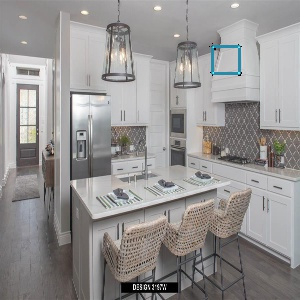square: (208, 42, 245, 77)
